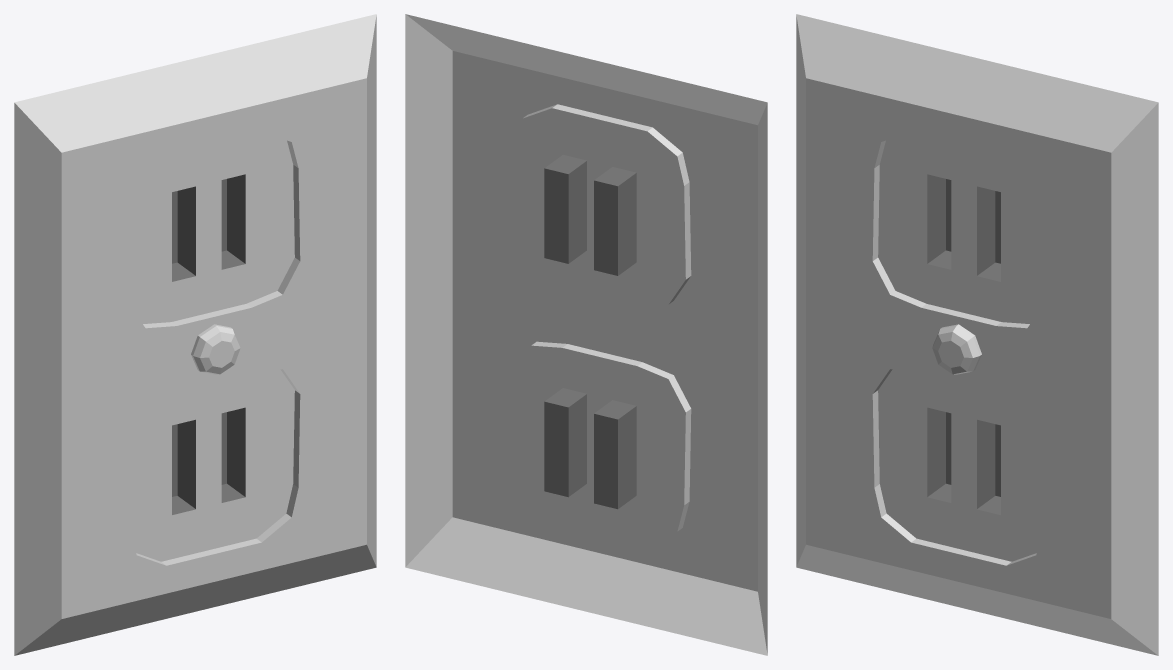
File: Outlet.fbx
3 renders of one model, left to right at view 1: azimuth 30°, elevation 25°; view 2: azimuth 150°, elevation 25°; view 3: azimuth 330°, elevation 25°, orthographic.
Parts seen in each view (by area): view 1: Prop_WallPlugin; view 2: Prop_WallPlugin; view 3: Prop_WallPlugin.
Boxes of the visible parts, <box> form: Prop_WallPlugin: <box>14,14,376,655</box>; Prop_WallPlugin: <box>405,14,767,655</box>; Prop_WallPlugin: <box>796,14,1158,655</box>.
Bounding box in the file's own units: 9.61 × 14.03 × 1.46.
Materials: 1 (1 with a texture image).
